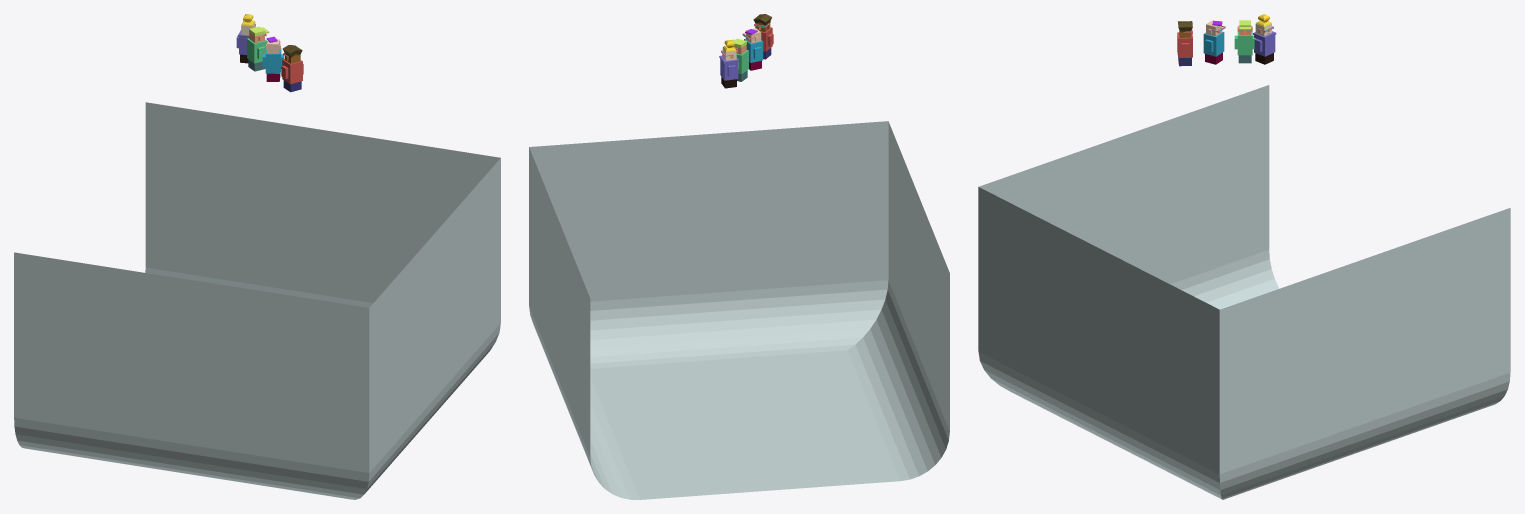
The model's file is SM_Naocari_1.fbx.
The picture shows the model from 3 angles, left to right: view 1: azimuth 30°, elevation 25°; view 2: azimuth 150°, elevation 25°; view 3: azimuth 270°, elevation 25°; orthographic projection. The views are drawn at different scales.
Parts seen in each view (by area): view 1: Plane; view 2: Plane; view 3: Plane.
Part boxes in pixels (x1=…): Plane: x1=14, y1=102, x2=500, y2=499; Plane: x1=529, y1=121, x2=949, y2=499; Plane: x1=978, y1=85, x2=1510, y2=499.
Bounding box in the file's own units: 8155 × 6671 × 8155.
